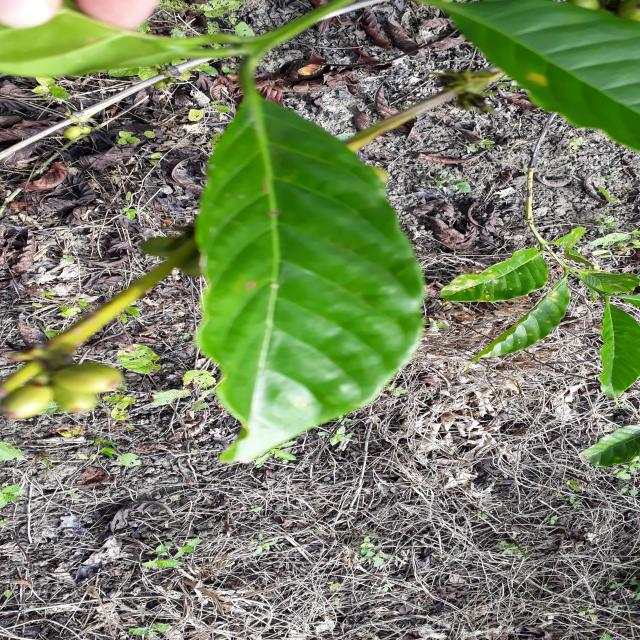Plaga-AranaRoja: (192, 55, 425, 467)
